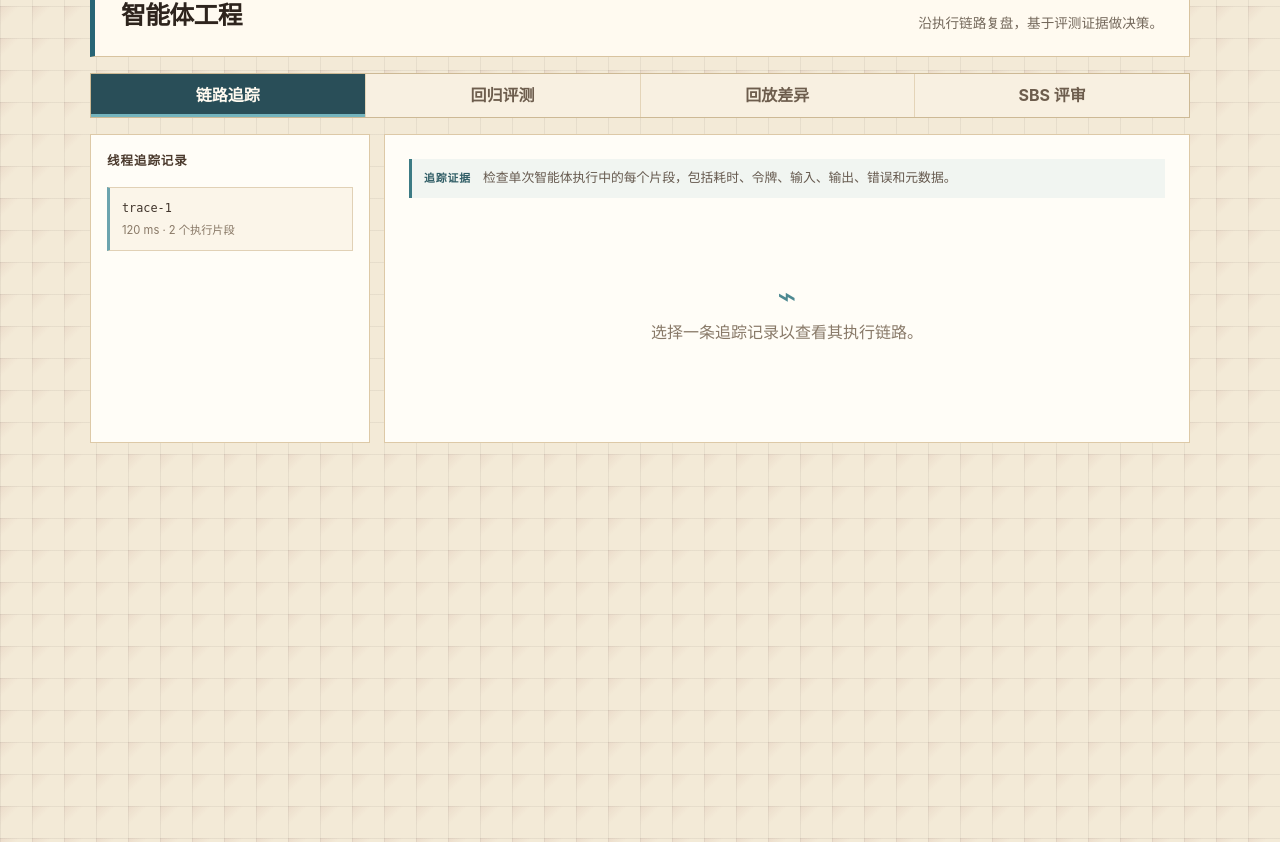
Test: EngineeringPanel › renders reviewed SBS tasks as a locked read-only result
This screenshot has width=1280, height=842.
Click the tab "SBS 评审" at (1052, 96), box [915,74,1189,117]
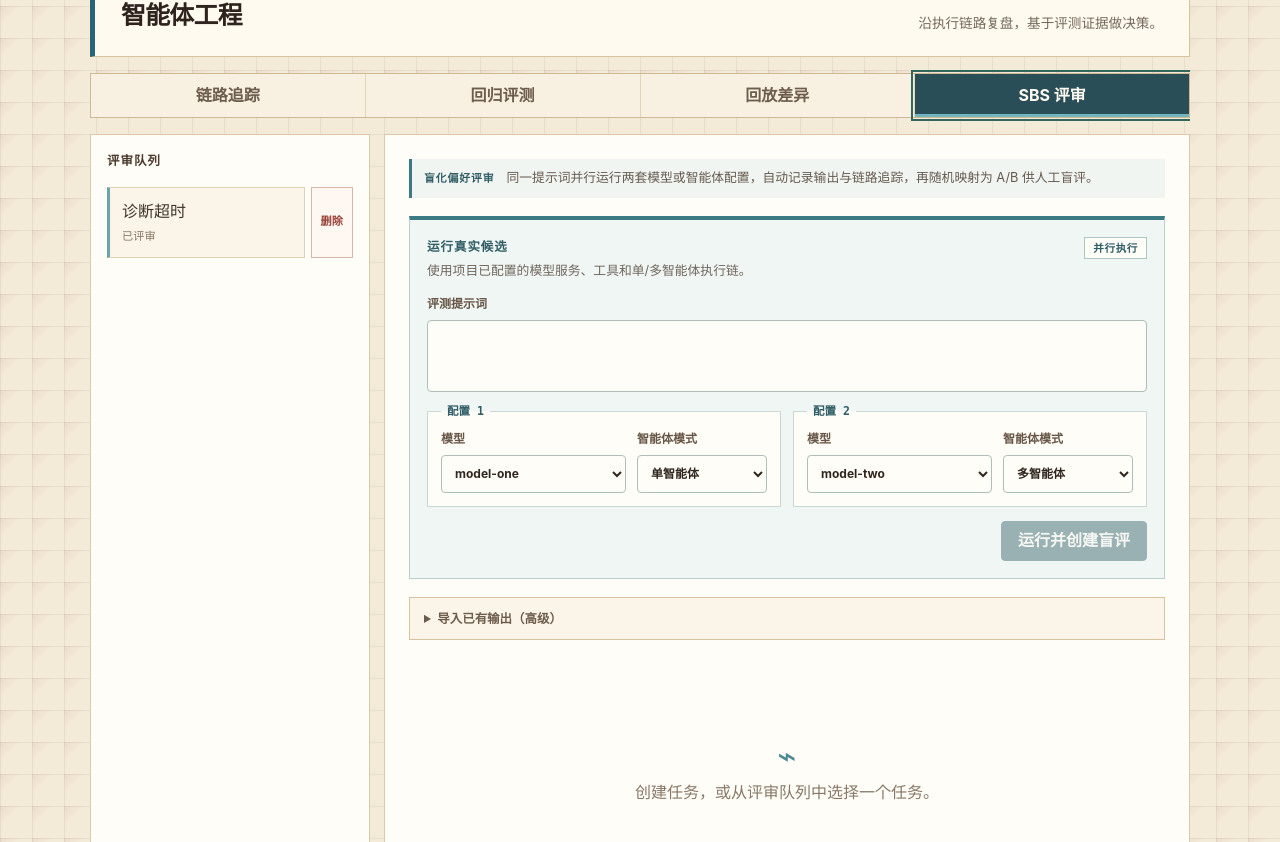
Click the button named "诊断超时已评审" at (206, 222), box [107,187,305,258]
(page scrolled)
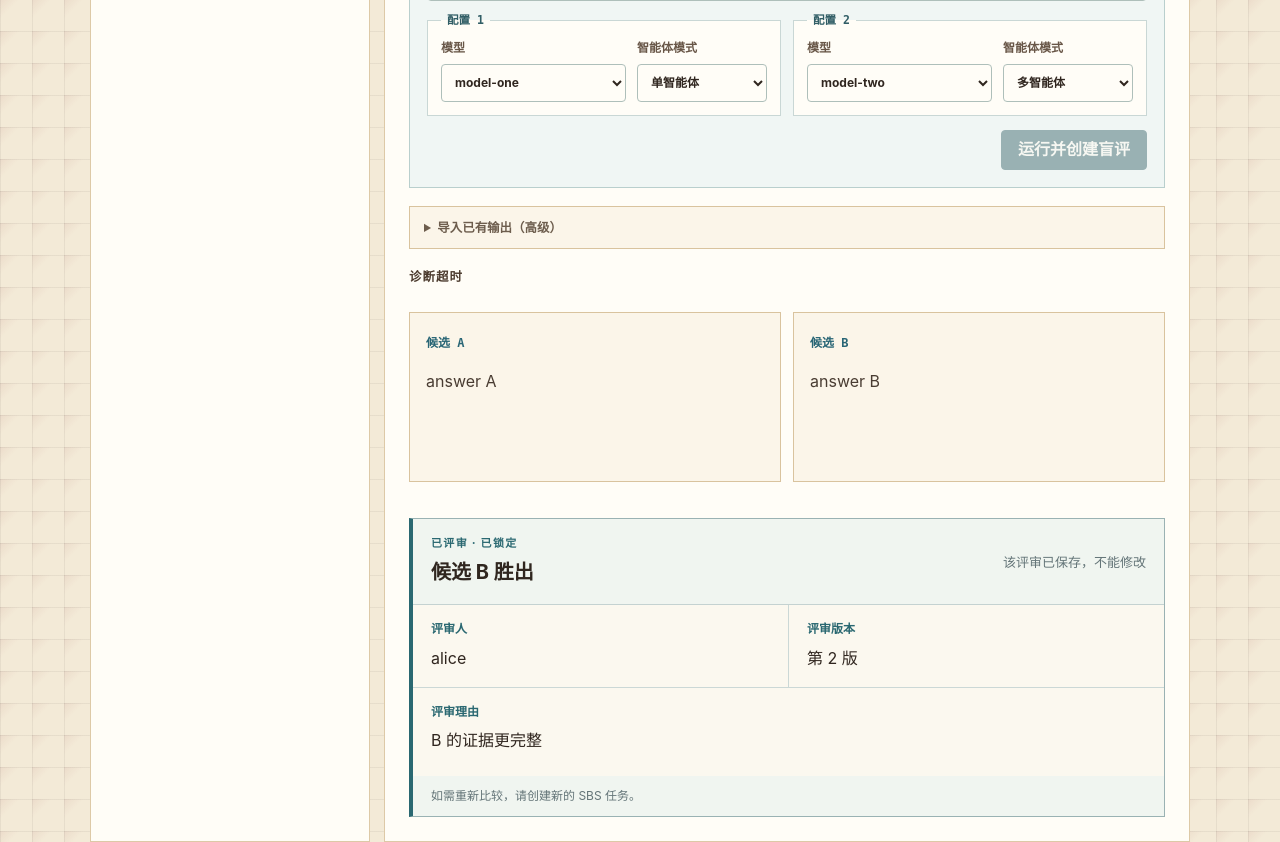
expect the element named "评审结果" is shown: met, box [409,518,1165,817]
expect the text "候选 B 胜出" is shown: met, box [431,557,534,588]
expect the text "alice" is shown: met, box [431,648,466,668]
